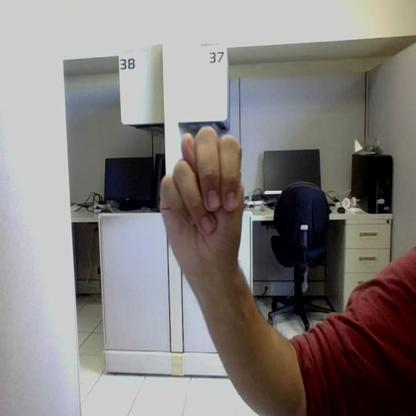N: (160, 126, 243, 260)
